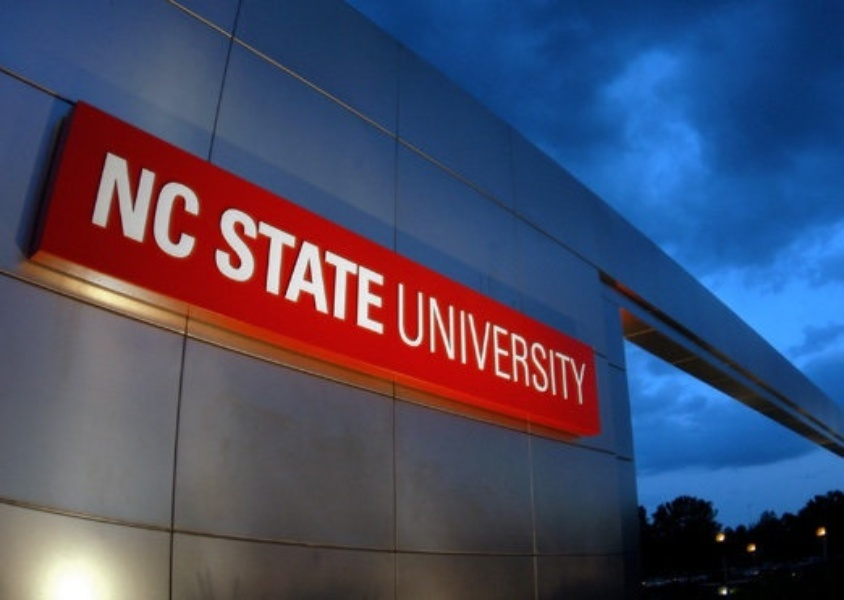text: (225, 201, 240, 339), (241, 201, 256, 339), (257, 201, 272, 339), (273, 201, 288, 339), (289, 201, 304, 339), (305, 201, 320, 339), (321, 201, 336, 339), (337, 201, 352, 339), (353, 201, 368, 339), (369, 201, 384, 339), (401, 282, 416, 408), (417, 282, 432, 408), (433, 282, 448, 408), (449, 282, 464, 408), (465, 282, 480, 408), (481, 282, 496, 408), (497, 282, 512, 408), (513, 282, 528, 408), (529, 282, 544, 408), (545, 282, 560, 408), (561, 282, 576, 408), (113, 149, 128, 264), (129, 149, 144, 264), (145, 149, 160, 264), (161, 149, 176, 264), (177, 149, 192, 264), (193, 149, 203, 264), (577, 282, 586, 408), (107, 149, 112, 264), (385, 201, 389, 339), (222, 201, 224, 339), (398, 282, 400, 408)
